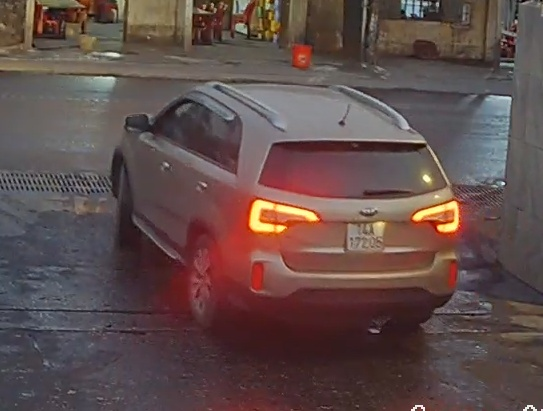vehicle plate: (342, 219, 387, 255)
